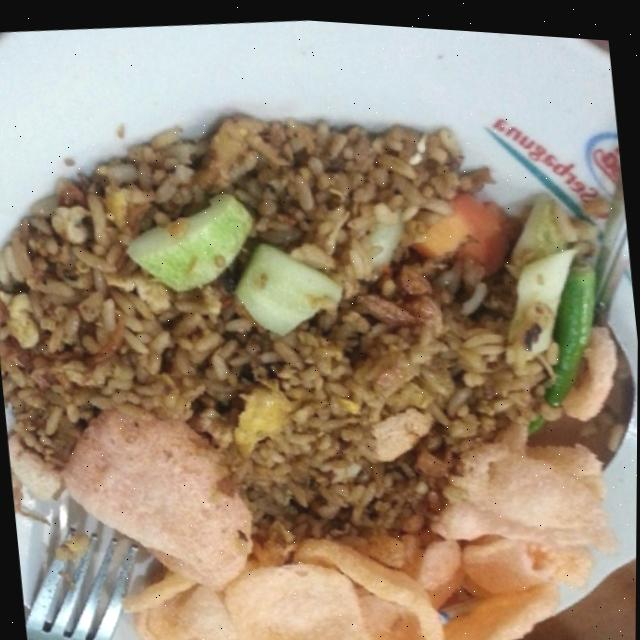米饭主食: (0, 21, 635, 640)
